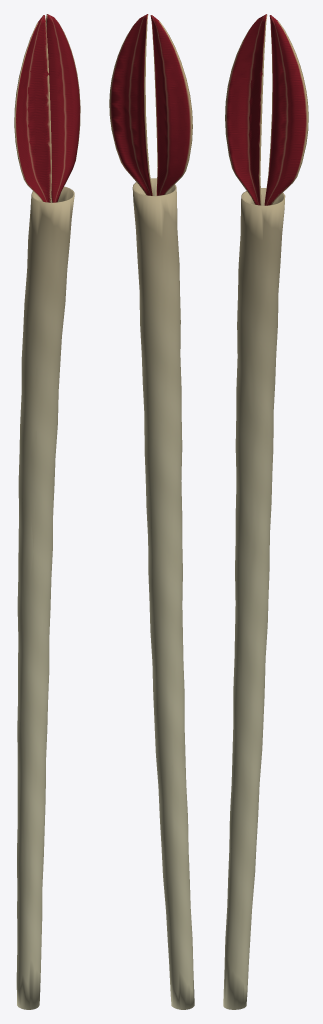
Rendered from NEW689_Tubeworm_LOD2.fbx.
3 renders of one model, left to right at view 1: azimuth 30°, elevation 25°; view 2: azimuth 150°, elevation 25°; view 3: azimuth 330°, elevation 25°, orthographic.
Parts seen in each view (by area): view 1: Protective_tube, Branchial_lamella_left, Branchial_lamella_right; view 2: Protective_tube, Branchial_lamella_right, Branchial_lamella_left; view 3: Protective_tube, Branchial_lamella_left, Branchial_lamella_right.
Boxes of the visible parts, <box> form: Protective_tube: <box>16,186,74,1009</box>; Branchial_lamella_left: <box>14,15,51,202</box>; Branchial_lamella_right: <box>45,14,80,202</box>; Protective_tube: <box>132,178,194,1009</box>; Branchial_lamella_right: <box>109,14,153,195</box>; Branchial_lamella_left: <box>150,15,192,195</box>; Protective_tube: <box>223,188,285,1009</box>; Branchial_lamella_left: <box>225,14,267,205</box>; Branchial_lamella_right: <box>264,15,308,205</box>.
Size of the model in its own units: 0.0889 by 1.13 by 0.0493.
3 materials, 3 textured.
